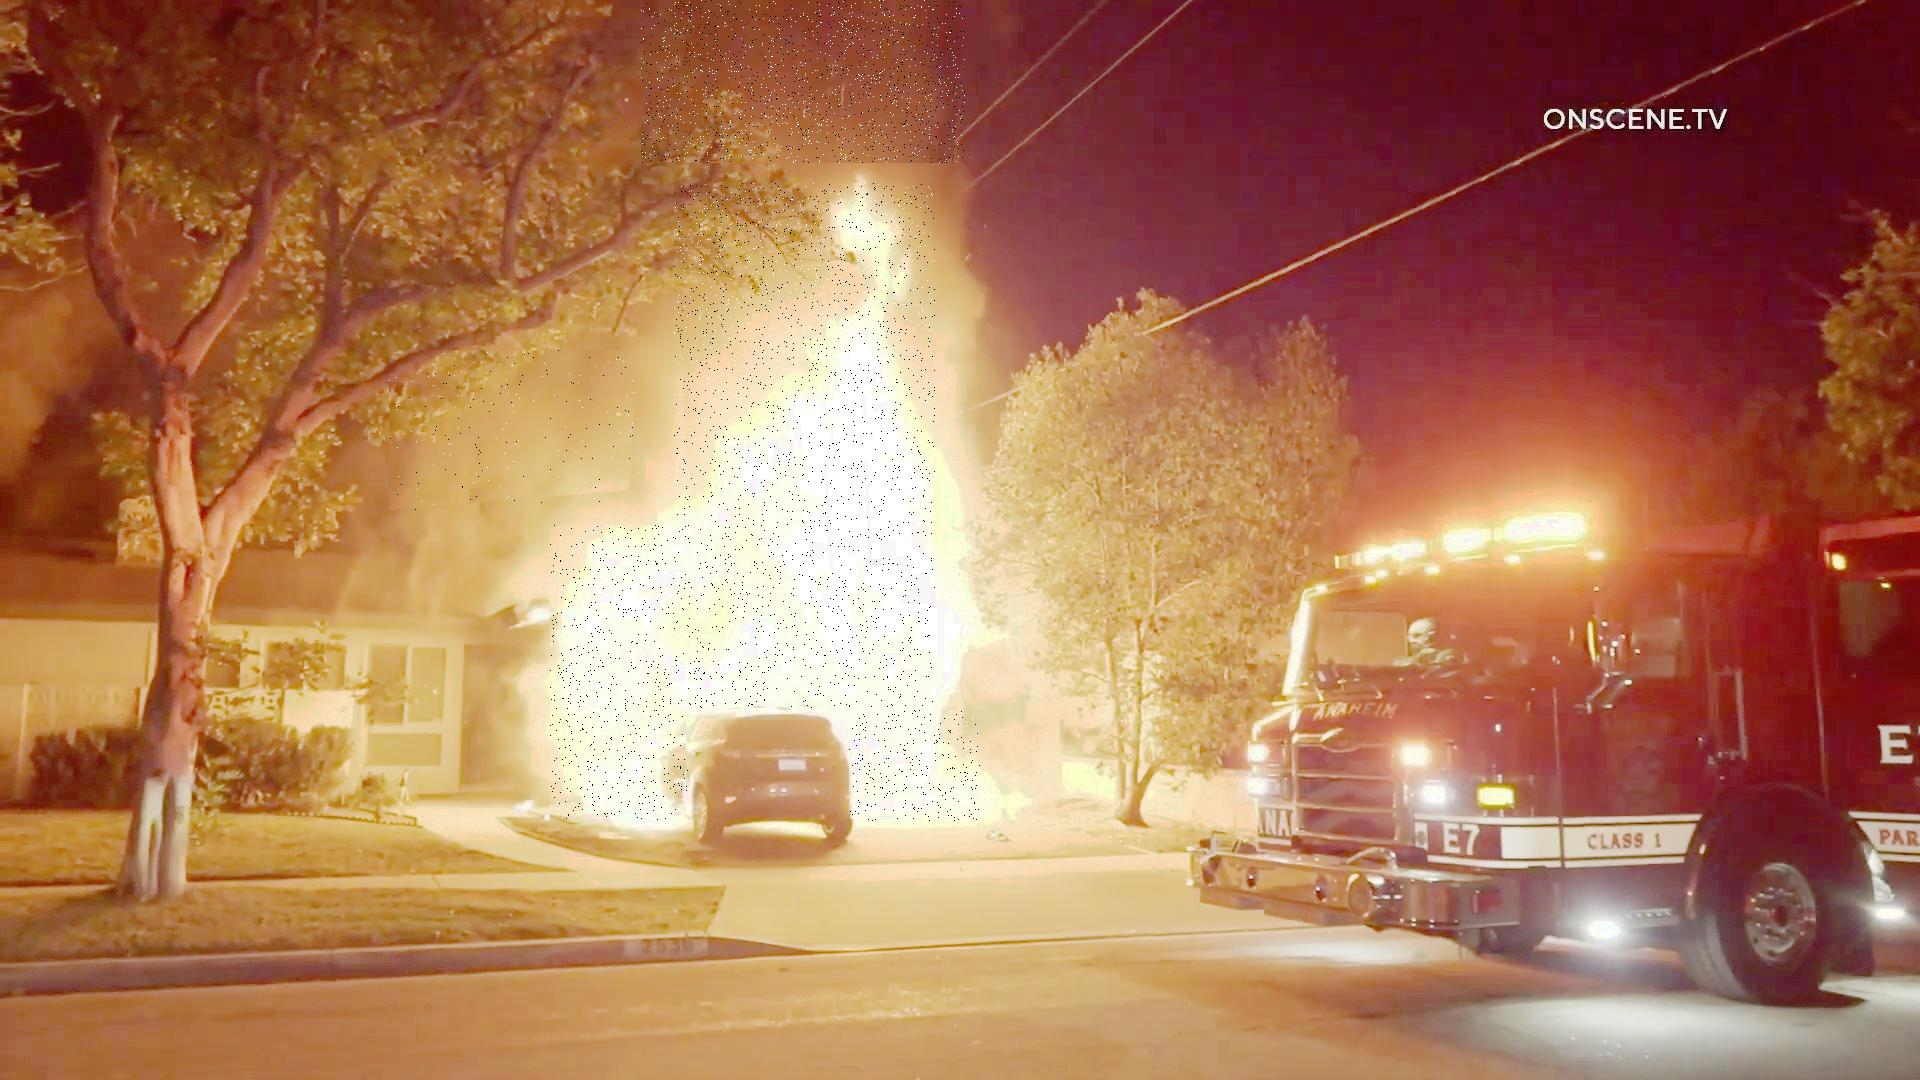fire: (675, 183, 936, 708), (551, 526, 688, 822), (849, 711, 980, 822)
smoke: (641, 0, 965, 164), (389, 349, 641, 510)
